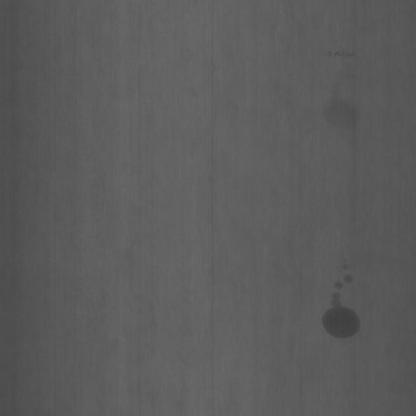oil_spot: (318, 285, 365, 355), (322, 46, 364, 68)
